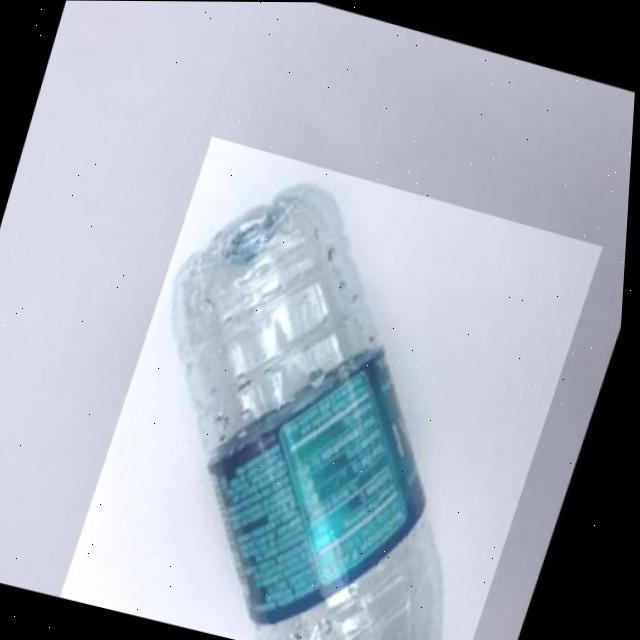Dry: (69, 132, 615, 640)
